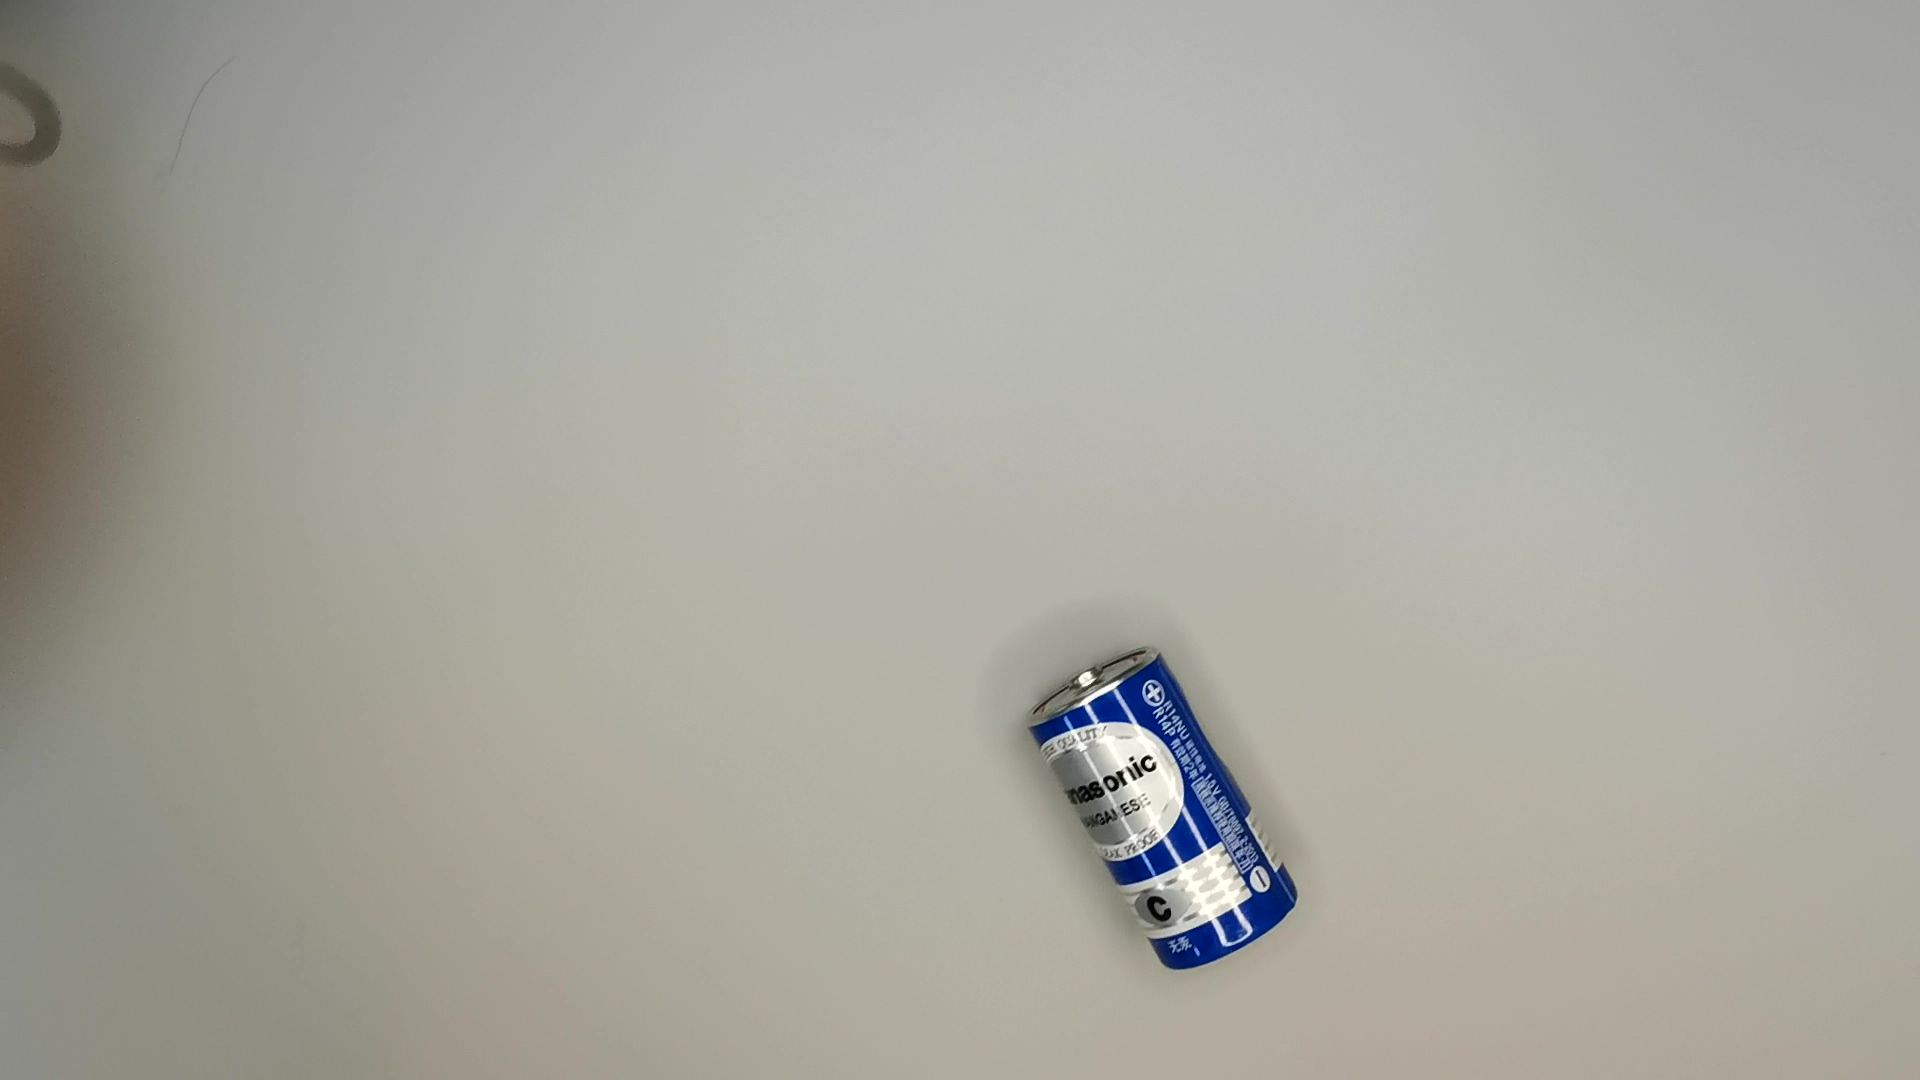battery: (1018, 641, 1309, 976)
